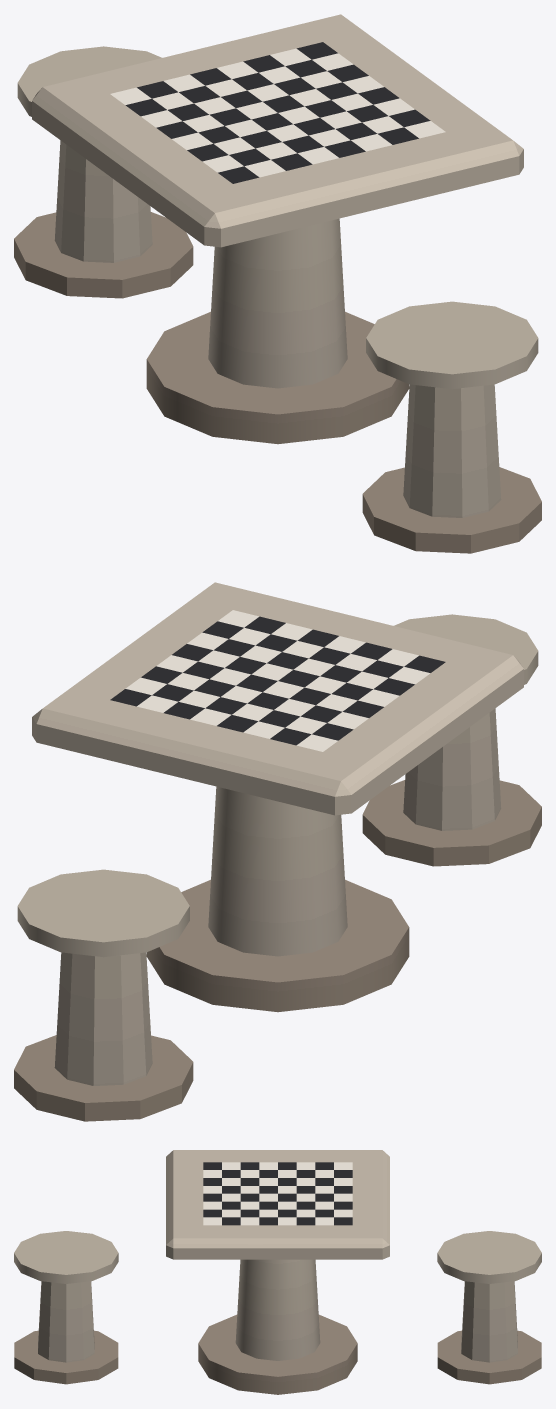
File: chess_table.glb
3 renders of one model, top to bottom at view 1: azimuth 30°, elevation 25°; view 2: azimuth 150°, elevation 25°; view 3: azimuth 270°, elevation 25°, orthographic. The views are drawn at different scales.
Parts seen in each view (by area): view 1: chess_table; view 2: chess_table; view 3: chess_table.
Part boxes in pixels (left/top/right/bottom): chess_table: left=14, top=14, right=541, bottom=553; chess_table: left=14, top=582, right=541, bottom=1121; chess_table: left=14, top=1150, right=541, bottom=1394.
Size of the model in its own units: 0.9 by 0.742 by 2.12.
Materials: 1 (1 with a texture image).
